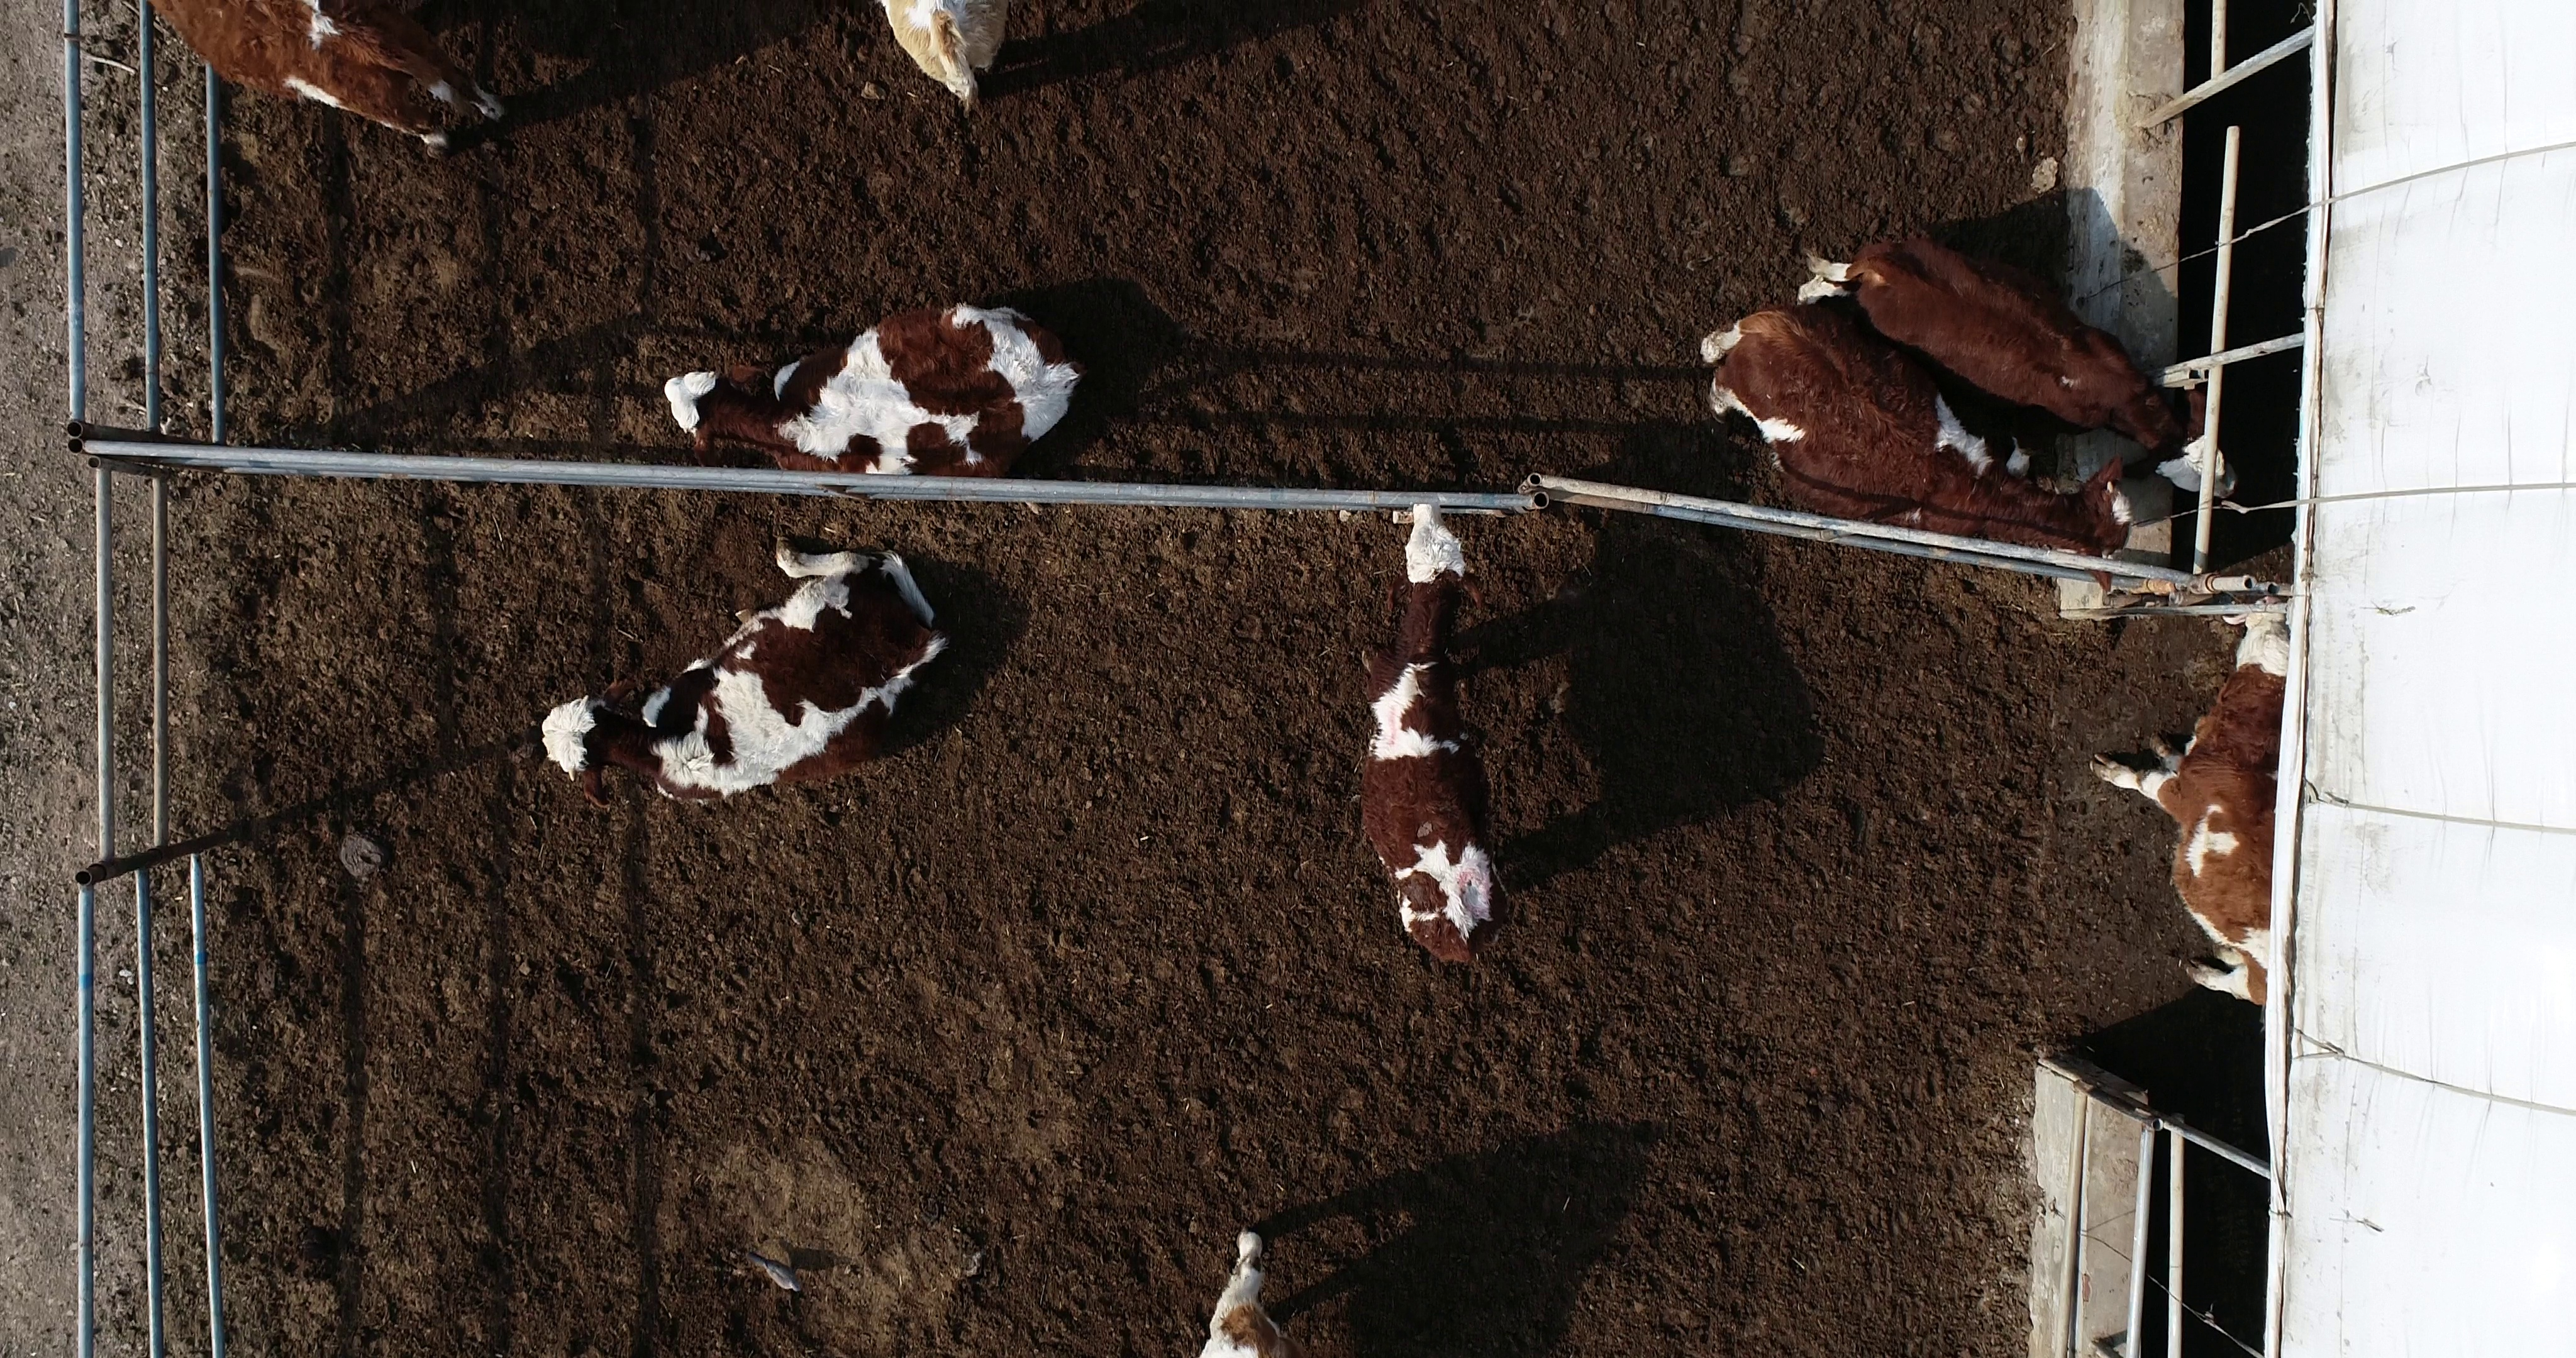cattle: (1695, 300, 2135, 595), (1796, 228, 2247, 501), (659, 298, 1092, 486), (1353, 492, 1515, 971)
